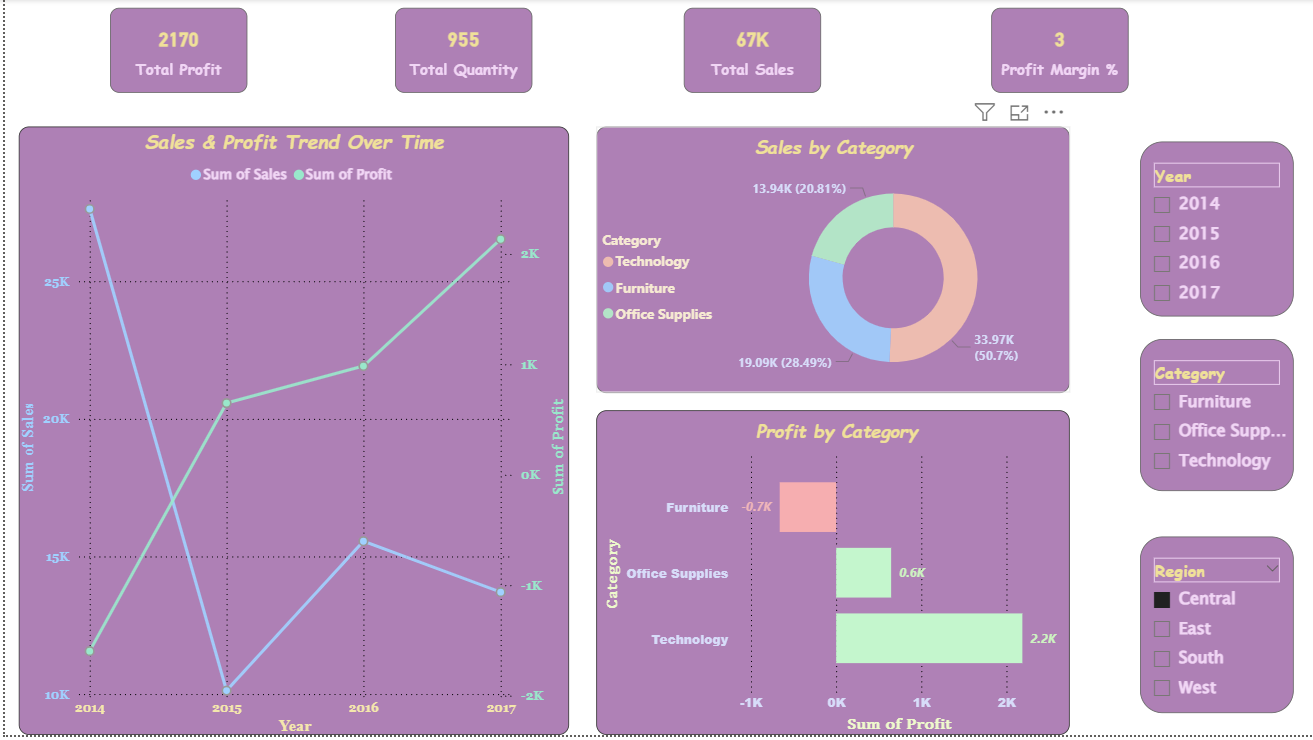

This screenshot's page, from the dashboard's own definition file:
{"tool":"powerbi","page":{"name":"Page 1","canvas":[1280,720],"ordinal":0},"visuals":[{"type":"card","fields":{"Values":["superstore.Total Profit"]},"box":[102.7,8.6,134.5,83.2],"z":0},{"type":"card","fields":{"Values":["superstore.Total Quantity"]},"box":[381.5,8.6,134.5,83.2],"z":1000},{"type":"card","fields":{"Values":["superstore.Total Sales"]},"box":[664,8.6,134.5,83.2],"z":2000},{"type":"card","fields":{"Values":["superstore.Profit Margin %"]},"box":[964.8,8.6,134.5,83.2],"z":3000},{"type":"lineChart","title":"Sales & Profit  Trend Over Time","fields":{"Category":["superstore.Order Date.Variation.Date Hierarchy.Year","superstore.Order Date.Variation.Date Hierarchy.Month"],"Y":["Sum(superstore.Sales)"],"Y2":["Sum(superstore.Profit)"]},"box":[13.5,124.7,538,595.5],"z":4000},{"type":"donutChart","title":"Sales by Category","fields":{"Category":["superstore.Category"],"Y":["Sum(superstore.Sales)"]},"box":[578.4,124.7,463.5,260.5],"z":5000},{"type":"clusteredBarChart","title":"Profit by Category","fields":{"Category":["superstore.Category"],"Y":["Sum(superstore.Profit)"]},"box":[578.4,402.3,463.5,317.9],"z":6000},{"type":"slicer","fields":{"Values":["superstore.Order Date.Variation.Date Hierarchy.Year"]},"box":[1110.3,139.4,150.4,171.2],"z":7000},{"type":"slicer","fields":{"Values":["superstore.Category"]},"box":[1110.3,332.6,150.4,149.2],"z":8000},{"type":"slicer","fields":{"Values":["superstore.Region"]},"box":[1110.3,525.8,150.4,172.4],"z":9000}]}

Visuals, with their boxes in screenshot pixels (x1, y1, x2, y2), scaled from the page's 1280x720 canvas onto the 1313x740 screenshot:
card - superstore.Total Profit: (105, 9, 243, 94)
card - superstore.Total Quantity: (391, 9, 529, 94)
card - superstore.Total Sales: (681, 9, 819, 94)
card - superstore.Profit Margin %: (990, 9, 1128, 94)
"Sales & Profit  Trend Over Time" lineChart: (14, 128, 566, 739)
"Sales by Category" donutChart: (593, 128, 1069, 396)
"Profit by Category" clusteredBarChart: (593, 413, 1069, 739)
slicer - superstore.Order Date.Variation.Date Hierarchy.Year: (1139, 143, 1293, 319)
slicer - superstore.Category: (1139, 342, 1293, 495)
slicer - superstore.Region: (1139, 540, 1293, 718)
